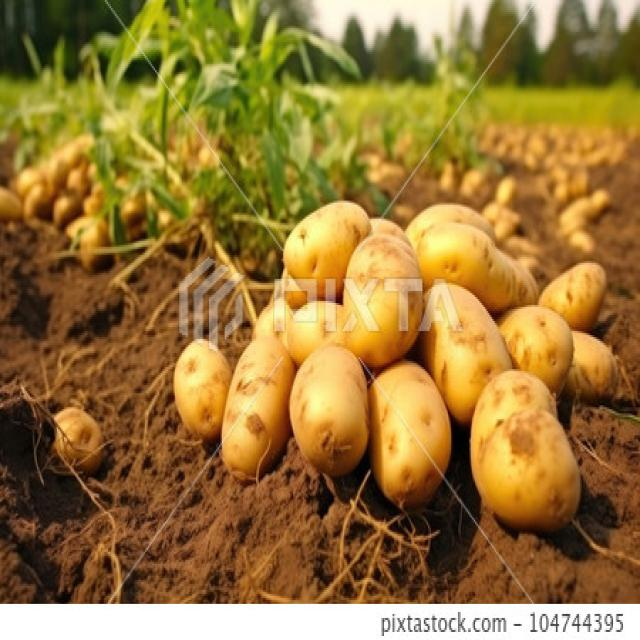orange: (469, 373, 576, 530), (473, 365, 572, 531), (418, 283, 511, 425), (368, 361, 452, 506), (413, 219, 536, 313), (219, 331, 296, 480), (340, 229, 422, 367), (288, 341, 369, 478), (283, 199, 370, 301), (496, 303, 574, 397), (172, 337, 230, 441), (284, 297, 352, 367), (539, 261, 606, 331), (406, 200, 500, 242), (566, 329, 619, 403), (52, 406, 102, 476), (50, 136, 95, 192), (71, 217, 114, 273), (250, 295, 284, 345), (23, 178, 58, 222), (481, 202, 519, 240), (120, 190, 150, 238), (51, 190, 85, 230), (552, 170, 593, 202), (14, 167, 43, 200), (0, 182, 23, 222), (64, 164, 90, 198), (459, 166, 488, 196), (583, 188, 612, 218), (495, 177, 516, 204)
potato: (469, 354, 580, 522), (288, 341, 369, 478), (283, 199, 370, 301), (496, 303, 574, 397), (172, 337, 230, 441), (284, 297, 352, 367), (406, 200, 500, 242), (250, 295, 284, 345), (23, 178, 58, 222), (552, 170, 593, 202), (14, 167, 43, 200), (64, 164, 90, 198), (583, 188, 612, 218)
